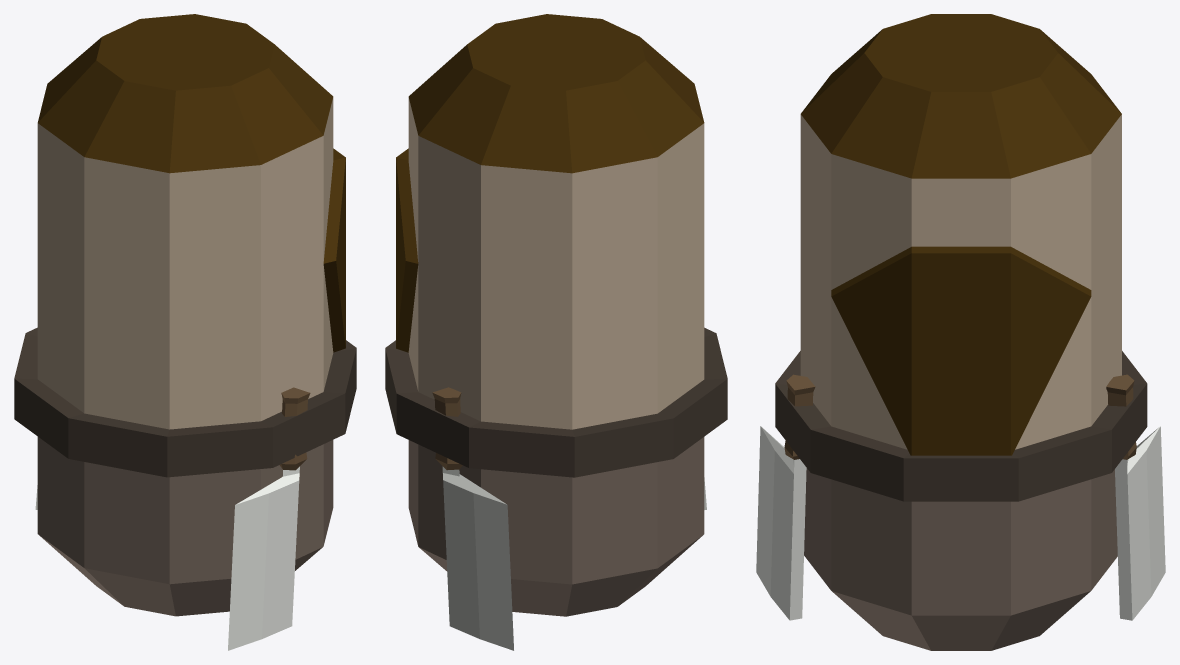
File: Butcher.fbx
The picture shows the model from 3 angles, left to right: view 1: azimuth 30°, elevation 25°; view 2: azimuth 150°, elevation 25°; view 3: azimuth 270°, elevation 25°; orthographic projection. The views are drawn at different scales.
Visible parts, largest first — view 1: Cylinder, Cylinder.002; view 2: Cylinder, Cylinder.001; view 3: Cylinder, Cylinder.002, Cylinder.001.
Boxes of the visible parts, x1,y1,x2,y2 form: Cylinder: [14, 14, 356, 616]; Cylinder.002: [228, 387, 310, 650]; Cylinder: [385, 14, 727, 616]; Cylinder.001: [432, 387, 513, 650]; Cylinder: [775, 14, 1147, 650]; Cylinder.002: [756, 374, 815, 620]; Cylinder.001: [1106, 374, 1165, 620].
Size of the model in its own units: 220 by 384 by 255.
